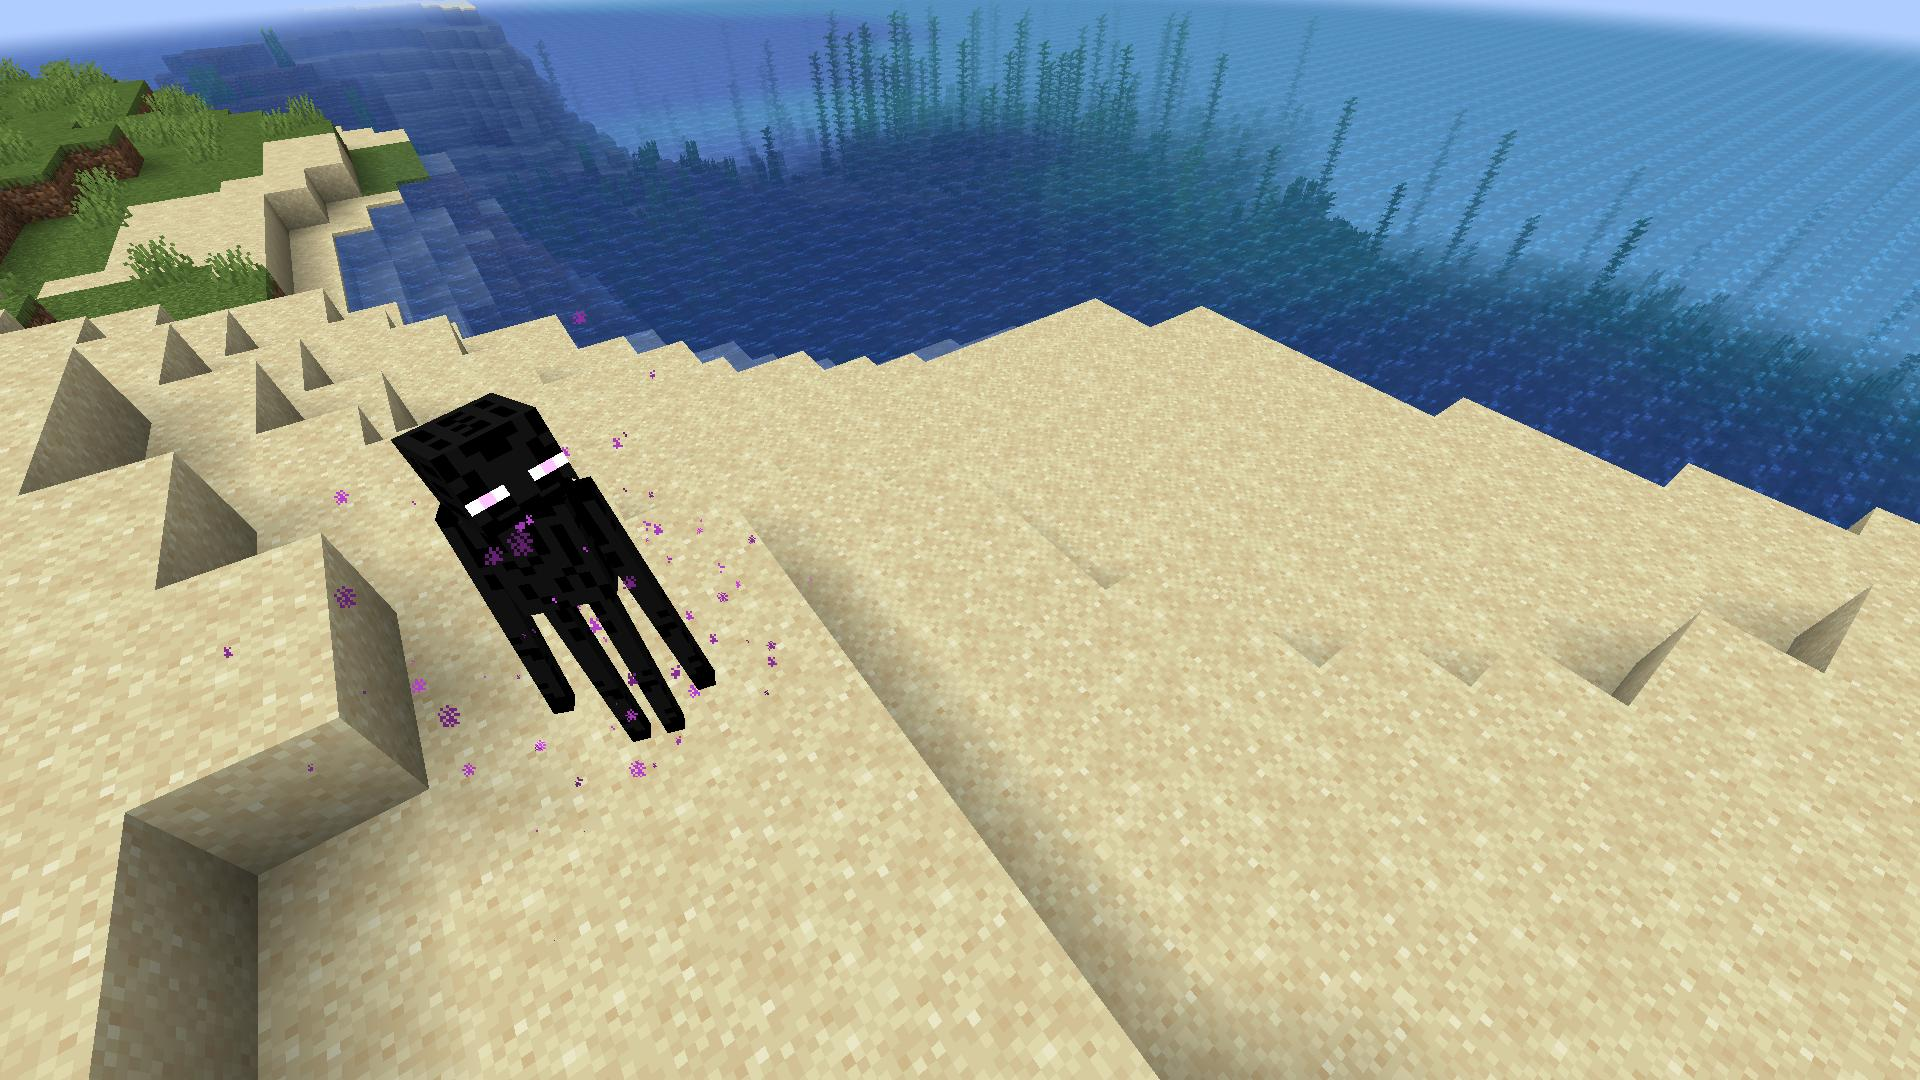enderman: (389, 380, 724, 750)
